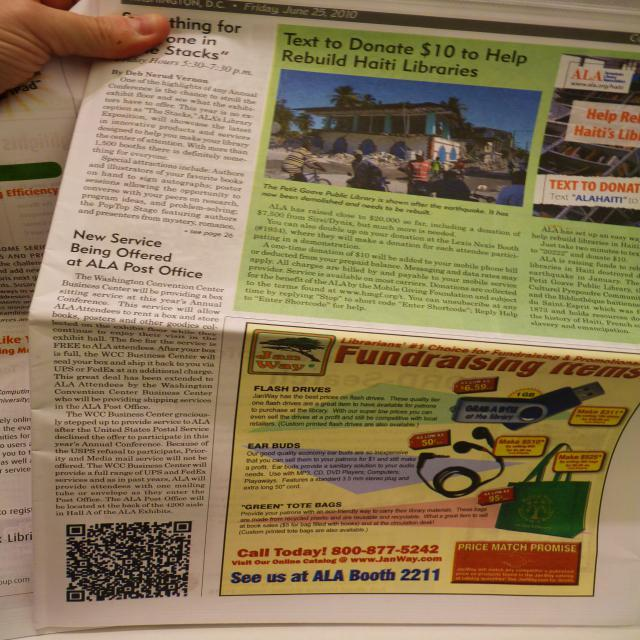qrcode: (67, 522, 192, 603)
